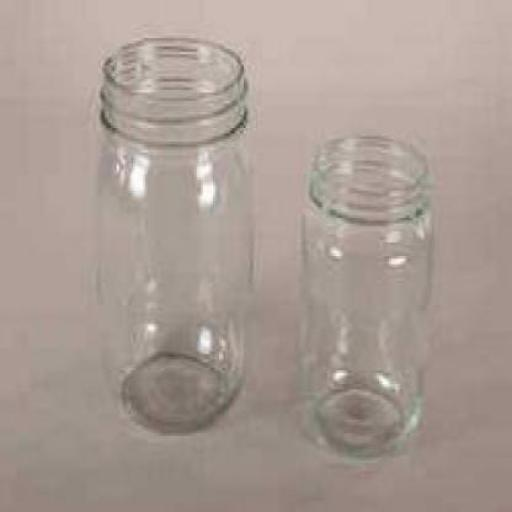glass: (94, 38, 248, 428), (301, 133, 430, 458)
